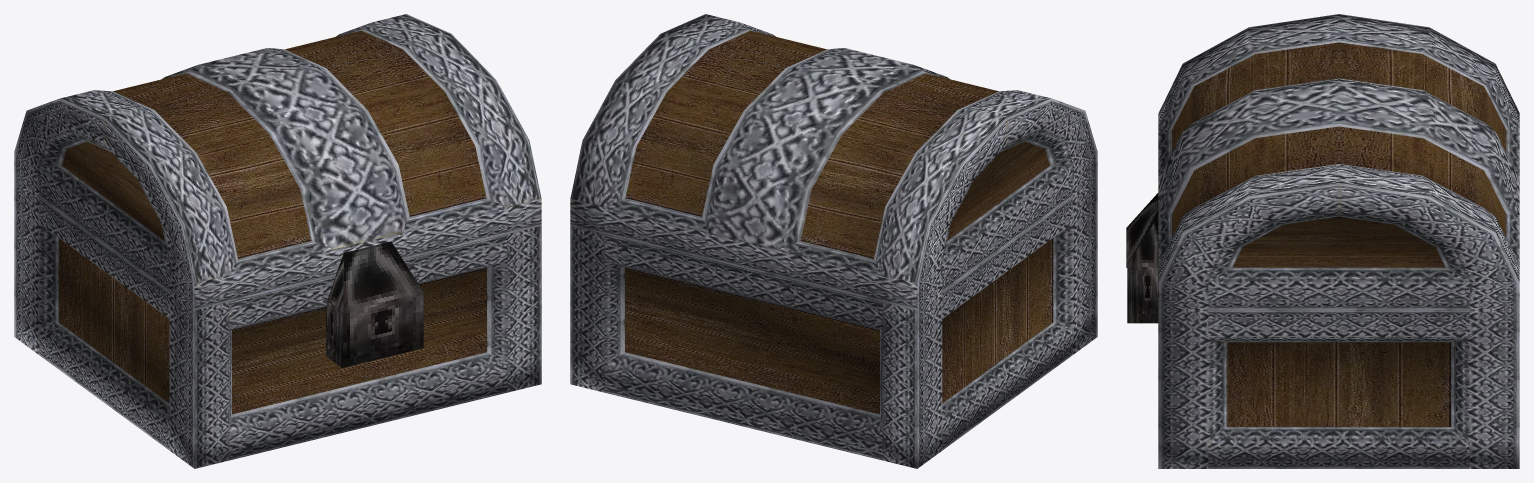
The model's file is ITMI_JEWELERYCHEST.glb.
3 views of the same model, side by side, from view 1: azimuth 30°, elevation 25°; view 2: azimuth 150°, elevation 25°; view 3: azimuth 270°, elevation 25° (orthographic).
Parts seen in each view (by area): view 1: Mesh; view 2: Mesh; view 3: Mesh.
Part boxes in pixels (x1=…): Mesh: x1=14, y1=14, x2=541, y2=468; Mesh: x1=570, y1=14, x2=1097, y2=468; Mesh: x1=1126, y1=14, x2=1519, y2=468.
Bounding box in the file's own units: 0.2778 × 0.2178 × 0.2723.
3 materials, 3 textured.
